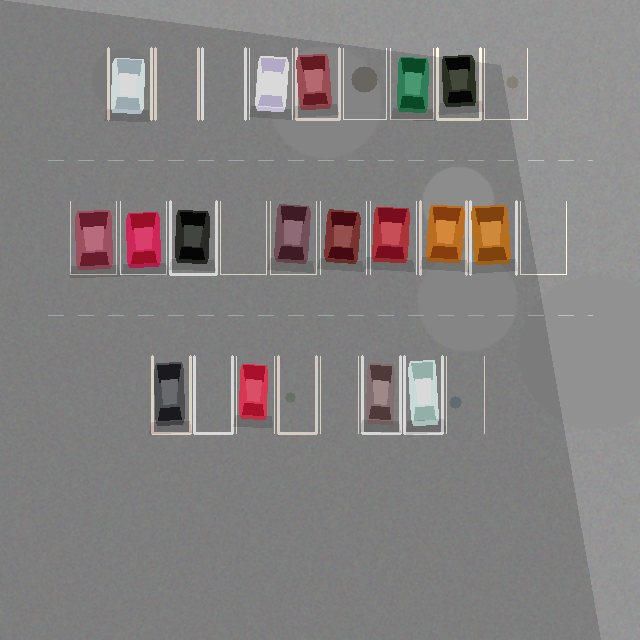space-empty: (220, 201, 266, 274), (520, 201, 566, 274), (155, 48, 198, 119), (202, 48, 245, 119), (343, 48, 386, 119), (484, 48, 527, 119), (194, 356, 232, 433), (278, 356, 316, 433), (320, 356, 358, 433), (446, 356, 484, 433)
space-occupied: (70, 201, 116, 274), (120, 201, 166, 274), (170, 201, 216, 274), (270, 201, 316, 274), (320, 201, 366, 274), (370, 201, 416, 274), (420, 201, 466, 274), (470, 201, 516, 274), (108, 48, 151, 119), (249, 48, 292, 119), (296, 48, 339, 119), (390, 48, 433, 119), (437, 48, 480, 119), (152, 356, 190, 433), (236, 356, 274, 433), (362, 356, 400, 433), (404, 356, 442, 433)
